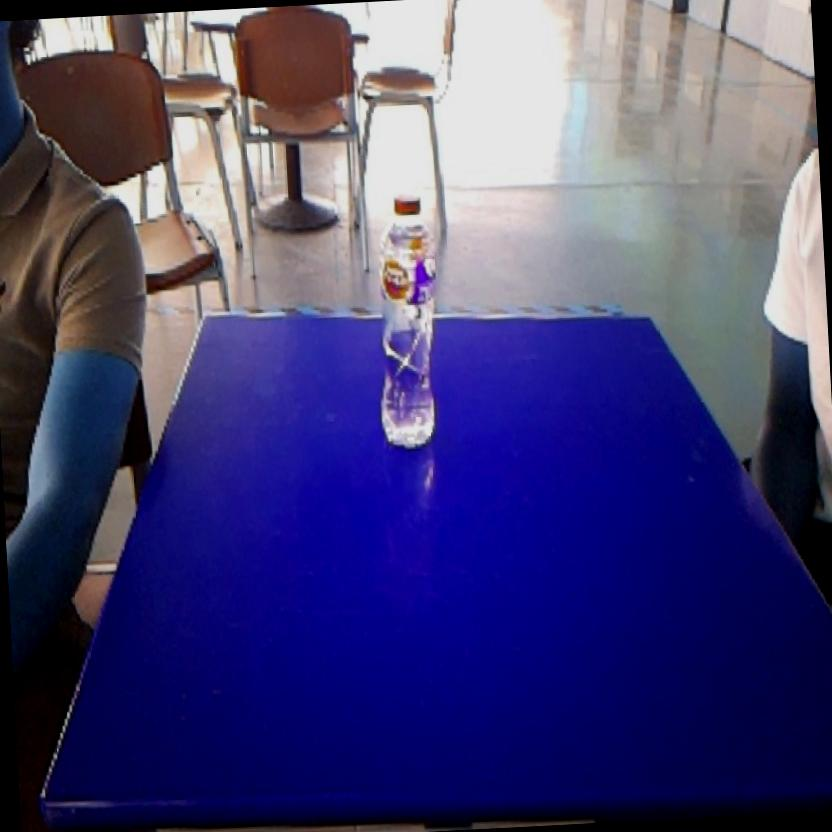good: (364, 184, 454, 462)
